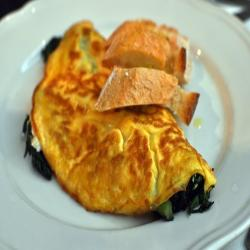bread: (99, 22, 205, 129)
omelette: (27, 18, 223, 227)
